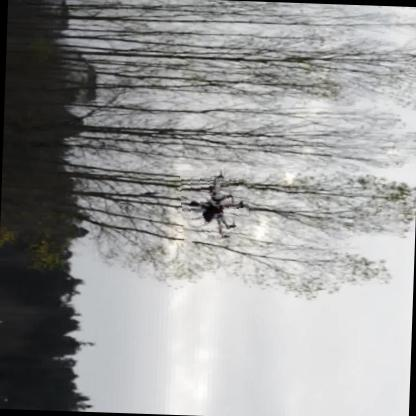drone: (178, 168, 251, 243)
